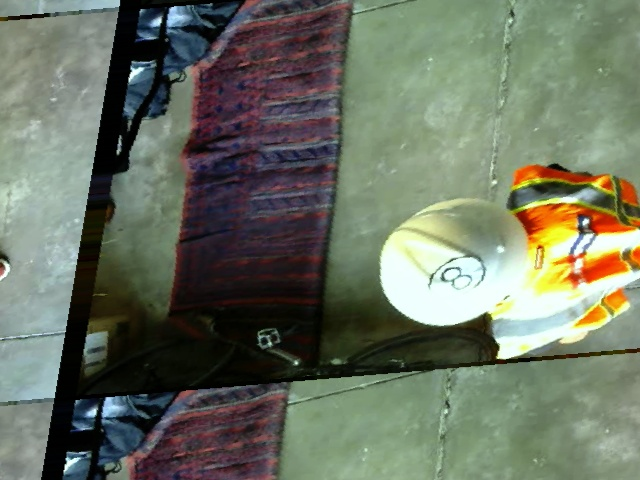eight: (422, 252, 487, 303)
